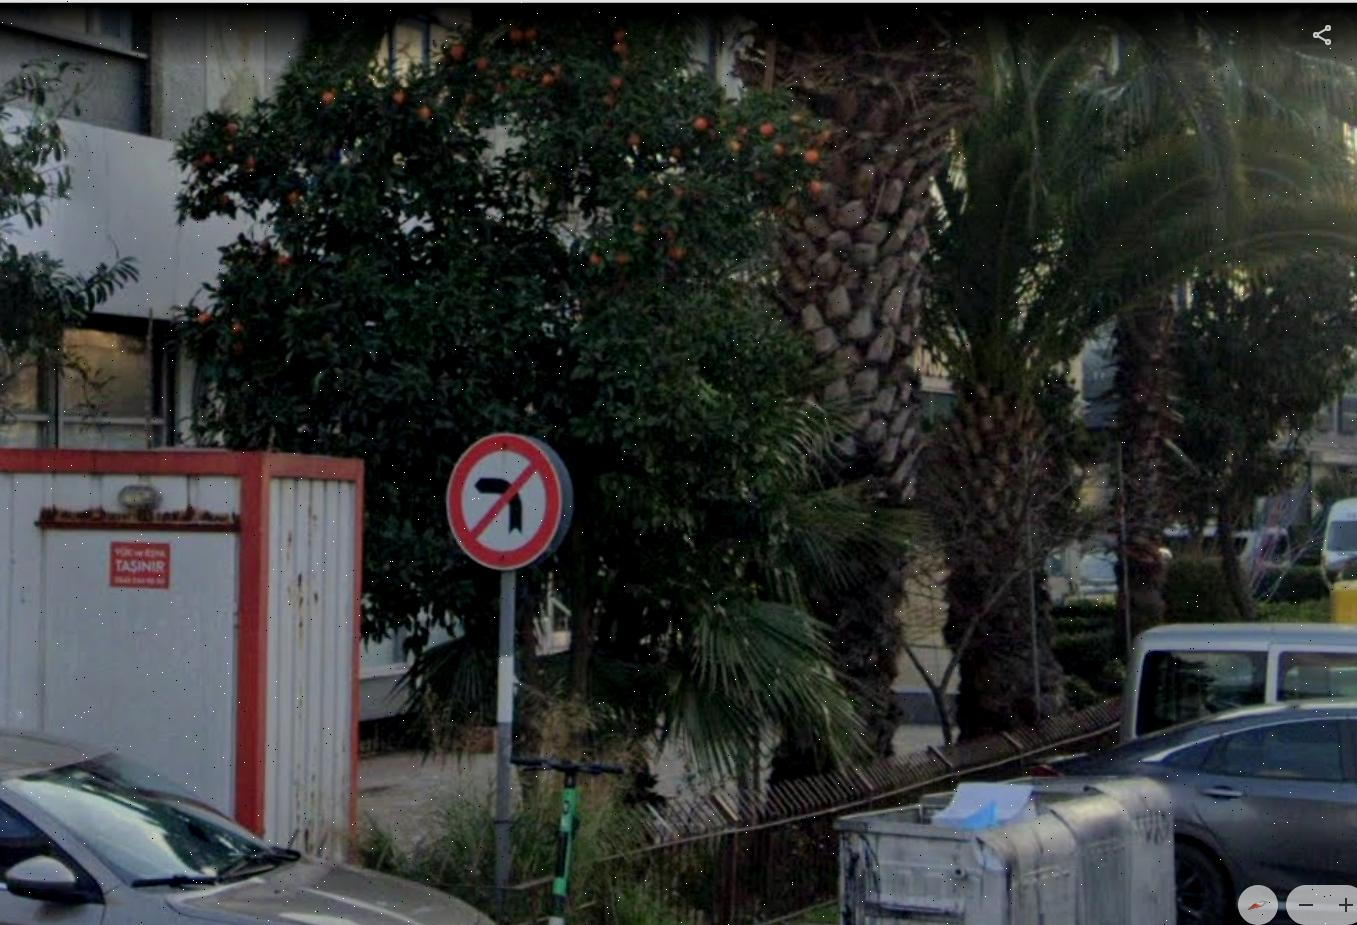leftturnsareforbidden: (452, 437, 561, 566)
